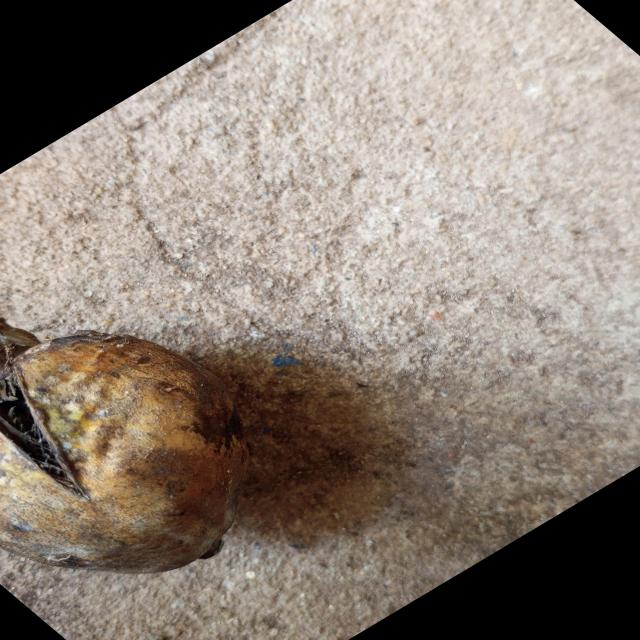damaged: (0, 323, 248, 573)
